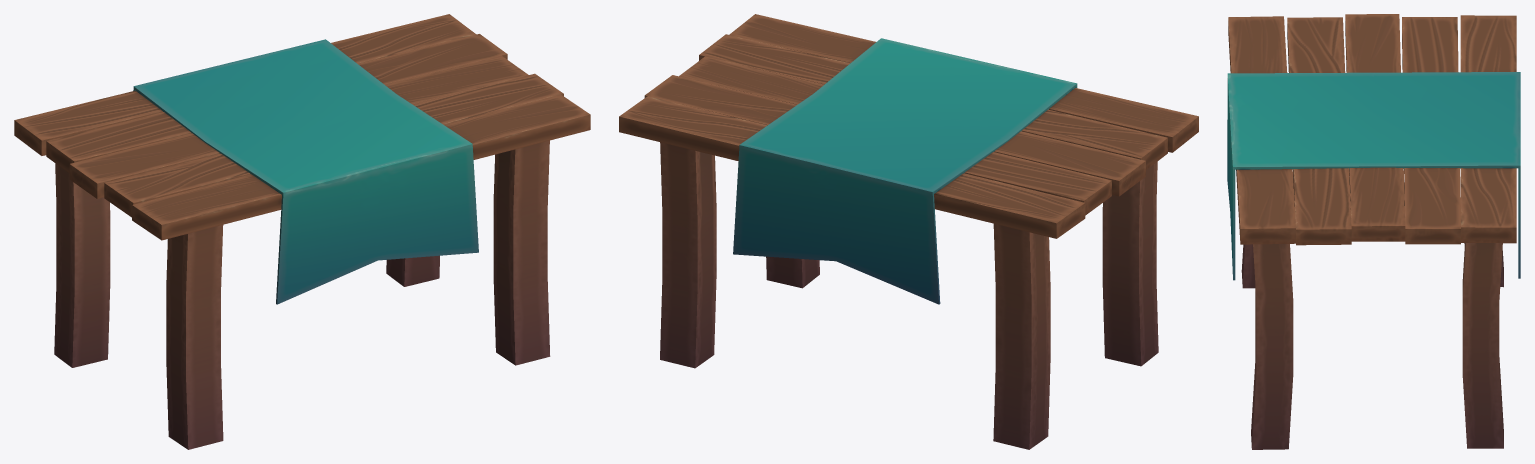
The model's file is table.glb.
The picture shows the model from 3 angles, left to right: view 1: azimuth 30°, elevation 25°; view 2: azimuth 150°, elevation 25°; view 3: azimuth 270°, elevation 25°; orthographic projection.
Visible parts, largest first — view 1: Table; view 2: Table; view 3: Table.
Part boxes in pixels (bbox=[...]): Table: bbox=[14, 14, 590, 449]; Table: bbox=[619, 14, 1198, 449]; Table: bbox=[1227, 14, 1520, 449].
Size of the model in its own units: 0.4538 by 0.236 by 0.2607.
1 material, 1 textured.
